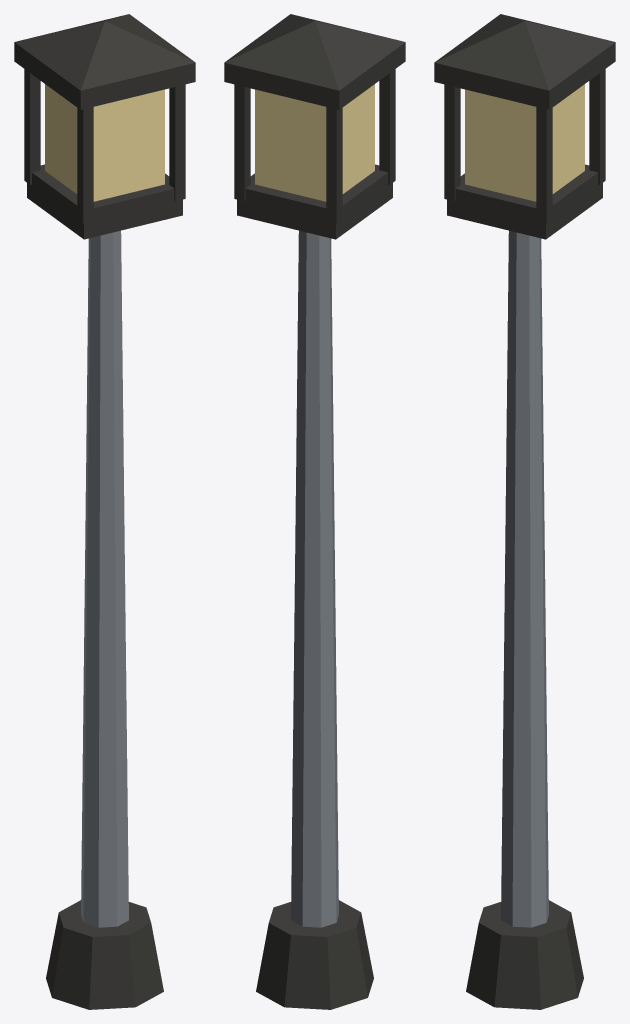
The model's file is lamp.glb.
3 renders of one model, left to right at view 1: azimuth 30°, elevation 25°; view 2: azimuth 150°, elevation 25°; view 3: azimuth 330°, elevation 25°, orthographic.
Visible parts, largest first — view 1: lamp_structure; view 2: lamp_structure; view 3: lamp_structure.
Part boxes in pixels (x1,y1,x2,y2): lamp_structure: (14, 14, 195, 1009); lamp_structure: (224, 14, 405, 1009); lamp_structure: (434, 14, 615, 1009).
Bounding box in the file's own units: 0.5 × 4 × 0.5.
